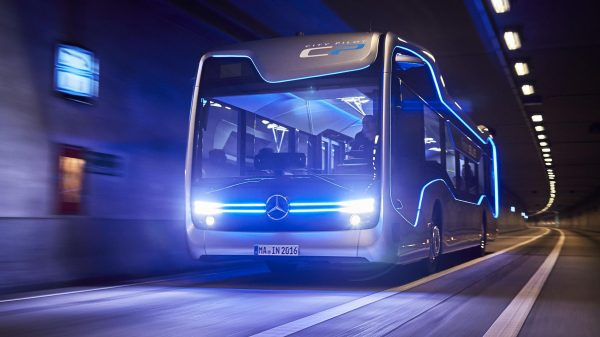bus: (183, 31, 501, 266)
